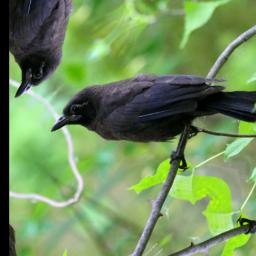Crow: (43, 0, 256, 230)
